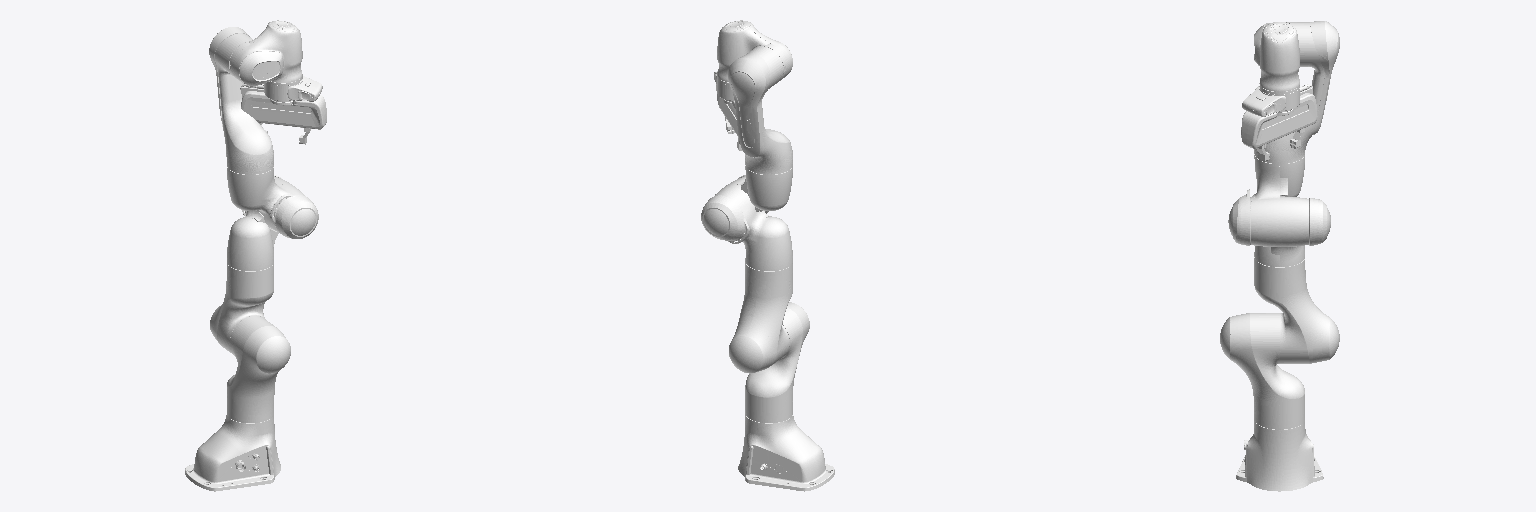
robot.urdf — panda:
<?xml version="1.0" ?>
<!-- =================================================================================== -->
<!-- |    This document was autogenerated by xacro from panda_arm_hand.urdf.xacro      | -->
<!-- |    EDITING THIS FILE BY HAND IS NOT RECOMMENDED                                 | -->
<!-- =================================================================================== -->
<robot name="panda" xmlns:xacro="http://www.ros.org/wiki/xacro">

    <material name="white">
        <color rgba="1.0 1.0 1.0 1.0"/>
      </material>

    <link name="panda_link0">
        <visual>
            <geometry>
                <mesh filename="package://robots/franka_panda/meshes/visual/link0.dae"/>
            </geometry>
            <material name="white"/>
        </visual>
    </link>
    <link name="panda_link1">
        <visual>
            <geometry>
                <mesh filename="package://robots/franka_panda/meshes/visual/link1.dae"/>
            </geometry>
            <material name="white"/>
        </visual>
        <collision>
            <geometry>
                <mesh filename="package://robots/franka_panda/meshes/collision/link1.stl"/>
            </geometry>
            <material name="white"/>
        </collision>
    </link>
    <joint name="panda_joint1" type="revolute">
        <safety_controller k_position="100.0" k_velocity="40.0" soft_lower_limit="-2.8973" soft_upper_limit="2.8973"/>
        <origin rpy="0 0 0" xyz="0 0 0.333"/>
        <parent link="panda_link0"/>
        <child link="panda_link1"/>
        <axis xyz="0 0 1"/>
        <limit effort="87" lower="-2.9671" upper="2.9671" velocity="2.1750"/>
    </joint>
    <link name="panda_link2">
        <visual>
            <geometry>
                <mesh filename="package://robots/franka_panda/meshes/visual/link2.dae"/>
            </geometry>
            <material name="white"/>
        </visual>
        <collision>
            <geometry>
                <mesh filename="package://robots/franka_panda/meshes/collision/link2.stl"/>
            </geometry>
            <material name="white"/>
        </collision>
    </link>
    <joint name="panda_joint2" type="revolute">
        <safety_controller k_position="100.0" k_velocity="40.0" soft_lower_limit="-1.7628" soft_upper_limit="1.7628"/>
        <origin rpy="-1.57079632679 0 0" xyz="0 0 0"/>
        <parent link="panda_link1"/>
        <child link="panda_link2"/>
        <axis xyz="0 0 1"/>
        <limit effort="87" lower="-1.8326" upper="1.8326" velocity="2.1750"/>
    </joint>
    <link name="panda_link3">
        <visual>
            <geometry>
                <mesh filename="package://robots/franka_panda/meshes/visual/link3.dae"/>
            </geometry>
            <material name="white"/>
        </visual>
        <collision>
            <geometry>
                <mesh filename="package://robots/franka_panda/meshes/collision/link3.stl"/>
            </geometry>
            <material name="white"/>
        </collision>
    </link>
    <joint name="panda_joint3" type="revolute">
        <safety_controller k_position="100.0" k_velocity="40.0" soft_lower_limit="-2.8973" soft_upper_limit="2.8973"/>
        <origin rpy="1.57079632679 0 0" xyz="0 -0.316 0"/>
        <parent link="panda_link2"/>
        <child link="panda_link3"/>
        <axis xyz="0 0 1"/>
        <limit effort="87" lower="-2.9671" upper="2.9671" velocity="2.1750"/>
    </joint>
    <link name="panda_link4">
        <visual>
            <geometry>
                <mesh filename="package://robots/franka_panda/meshes/visual/link4.dae"/>
            </geometry>
            <material name="white"/>
        </visual>
        <collision>
            <geometry>
                <mesh filename="package://robots/franka_panda/meshes/collision/link4.stl"/>
            </geometry>
            <material name="white"/>
        </collision>
    </link>
    <joint name="panda_joint4" type="revolute">
        <safety_controller k_position="100.0" k_velocity="40.0" soft_lower_limit="-3.0718" soft_upper_limit="-0.0698"/>
        <origin rpy="1.57079632679 0 0" xyz="0.0825 0 0"/>
        <parent link="panda_link3"/>
        <child link="panda_link4"/>
        <axis xyz="0 0 1"/>
        <limit effort="87" lower="-3.1416" upper="0.0" velocity="2.1750"/>
    </joint>
    <link name="panda_link5">
        <visual>
            <geometry>
                <mesh filename="package://robots/franka_panda/meshes/visual/link5.dae"/>
            </geometry>
            <material name="white"/>
        </visual>
        <collision>
            <geometry>
                <mesh filename="package://robots/franka_panda/meshes/collision/link5.stl"/>
            </geometry>
            <material name="white"/>
        </collision>
    </link>
    <joint name="panda_joint5" type="revolute">
        <safety_controller k_position="100.0" k_velocity="40.0" soft_lower_limit="-2.8973" soft_upper_limit="2.8973"/>
        <origin rpy="-1.57079632679 0 0" xyz="-0.0825 0.384 0"/>
        <parent link="panda_link4"/>
        <child link="panda_link5"/>
        <axis xyz="0 0 1"/>
        <limit effort="12" lower="-2.9671" upper="2.9671" velocity="2.6100"/>
    </joint>
    <link name="panda_link6">
        <visual>
            <geometry>
                <mesh filename="package://robots/franka_panda/meshes/visual/link6.dae"/>
            </geometry>
            <material name="white"/>
        </visual>
        <collision>
            <geometry>
                <mesh filename="package://robots/franka_panda/meshes/collision/link6.stl"/>
            </geometry>
            <material name="white"/>
        </collision>
    </link>
    <joint name="panda_joint6" type="revolute">
        <safety_controller k_position="100.0" k_velocity="40.0" soft_lower_limit="-0.0175" soft_upper_limit="3.7525"/>
        <origin rpy="1.57079632679 0 0" xyz="0 0 0"/>
        <parent link="panda_link5"/>
        <child link="panda_link6"/>
        <axis xyz="0 0 1"/>
        <limit effort="12" lower="-0.0873" upper="3.8223" velocity="2.6100"/>
    </joint>
    <link name="panda_link7">
        <visual>
            <geometry>
                <mesh filename="package://robots/franka_panda/meshes/visual/link7.dae"/>
            </geometry>
            <material name="white"/>
        </visual>
        <collision>
            <geometry>
                <mesh filename="package://robots/franka_panda/meshes/collision/link7.stl"/>
            </geometry>
            <material name="white"/>
        </collision>
    </link>
    <joint name="panda_joint7" type="revolute">
        <safety_controller k_position="100.0" k_velocity="40.0" soft_lower_limit="-2.8973" soft_upper_limit="2.8973"/>
        <origin rpy="1.57079632679 0 0" xyz="0.088 0 0"/>
        <parent link="panda_link6"/>
        <child link="panda_link7"/>
        <axis xyz="0 0 1"/>
        <limit effort="12" lower="-2.9671" upper="2.9671" velocity="2.6100"/>
    </joint>
    <link name="panda_link8"/>
    <joint name="panda_joint8" type="fixed">
        <origin rpy="0 0 0" xyz="0 0 0.107"/>
        <parent link="panda_link7"/>
        <child link="panda_link8"/>
        <axis xyz="0 0 0"/>
    </joint>
    <joint name="panda_hand_joint" type="fixed">
        <parent link="panda_link8"/>
        <child link="panda_hand"/>
        <origin rpy="0 0 -0.785398163397" xyz="0 0 0"/>
    </joint>
    <link name="panda_hand">

        <visual>
            <geometry>
                <mesh filename="package://robots/franka_panda/meshes/visual/hand.dae"/>
            </geometry>
            <material name="white"/>
        </visual>
        <collision>
            <geometry>
                <mesh filename="package://robots/franka_panda/meshes/collision/hand.stl"/>
            </geometry>
        </collision>
        <material name="white"/>
    </link>

    <link name="panda_leftfinger">
        <inertial>
            <origin rpy="0 0 0" xyz="0 0.01 0.02"/>
            <mass value="0.1"/>
            <inertia ixx="0.1" ixy="0" ixz="0" iyy="0.1" iyz="0" izz="0.1"/>
        </inertial>
        <visual>
            <geometry>
                <mesh filename="package://robots/franka_panda/meshes/visual/finger.dae"/>
            </geometry>
            <material name="white"/>
        </visual>
        <collision>
            <geometry>
                <mesh filename="package://robots/franka_panda/meshes/collision/finger.stl"/>
            </geometry>
        </collision>
        <material name="white"/>
    </link>

    <link name="panda_rightfinger">
        <inertial>
            <origin rpy="0 0 0" xyz="0 -0.01 0.02"/>
            <mass value="0.1"/>
            <inertia ixx="0.1" ixy="0" ixz="0" iyy="0.1" iyz="0" izz="0.1"/>
        </inertial>
        <visual>
            <origin rpy="0 0 3.14159265359" xyz="0 0 0"/>
            <geometry>
                <mesh filename="package://robots/franka_panda/meshes/visual/finger.dae"/>
            </geometry>
            <material name="white"/>
        </visual>
        <collision>
            <origin rpy="0 0 3.14159265359" xyz="0 0 0"/>
            <geometry>
                <mesh filename="package://robots/franka_panda/meshes/collision/finger.stl"/>
            </geometry>
        </collision>
        <material name="white"/>
    </link>
    <joint name="panda_finger_joint1" type="fixed">
        <parent link="panda_hand"/>
        <child link="panda_leftfinger"/>
        <origin rpy="0 0 0" xyz="0 0.04 0.0584"/>
    </joint>
    <joint name="panda_finger_joint2" type="fixed">
        <parent link="panda_hand"/>
        <child link="panda_rightfinger"/>
        <origin rpy="0 0 0" xyz="0 -0.04 0.0584"/>
        <mimic joint="panda_finger_joint1"/>
    </joint>
    
</robot>

--- What the picture shows (computed from the rendered views, not written in the file) ---
Views: 3 orthographic renders of the robot side by side, from view 1: azimuth 30°, elevation 25°; view 2: azimuth 150°, elevation 25°; view 3: azimuth 270°, elevation 25°.
Model panda with 12 links and 11 joints (7 revolute, 4 fixed), rooted at panda_link0, posed every joint at zero.
Links seen in each view (by area): view 1: panda_link0, panda_link1, panda_link5, panda_link4, panda_link6, panda_link2, panda_link3, panda_hand, panda_link7; view 2: panda_link0, panda_link5, panda_link2, panda_link3, panda_link1, panda_link6, panda_link4; view 3: panda_link1, panda_link2, panda_link0, panda_link4, panda_link5, panda_link3, panda_link6, panda_hand, panda_link7.
Link boxes in pixels (<box>): panda_link0: <box>185,415,280,491</box>; panda_link1: <box>227,316,290,422</box>; panda_link5: <box>209,27,273,174</box>; panda_link4: <box>227,167,318,238</box>; panda_link6: <box>230,20,302,85</box>; panda_link2: <box>210,264,273,355</box>; panda_link3: <box>227,175,291,270</box>; panda_hand: <box>240,84,326,129</box>; panda_link7: <box>262,76,322,102</box>; panda_link0: <box>738,414,834,491</box>; panda_link5: <box>728,46,792,174</box>; panda_link2: <box>729,262,792,373</box>; panda_link3: <box>701,184,792,270</box>; panda_link1: <box>745,302,809,422</box>; panda_link6: <box>717,20,792,81</box>; panda_link4: <box>726,165,792,213</box>; panda_link1: <box>1220,313,1304,429</box>; panda_link2: <box>1254,257,1339,363</box>; panda_link0: <box>1236,420,1323,491</box>; panda_link4: <box>1228,154,1304,246</box>; panda_link5: <box>1254,21,1339,163</box>; panda_link3: <box>1254,196,1330,266</box>; panda_link6: <box>1254,22,1299,91</box>; panda_hand: <box>1241,84,1317,148</box>; panda_link7: <box>1242,83,1299,116</box>.
Size in the robot's own frame: 0.3253 by 0.2593 by 1.11 metres.
Meshes: 10 distinct files referenced, 11 mesh visuals loaded (10 Collada DAE).